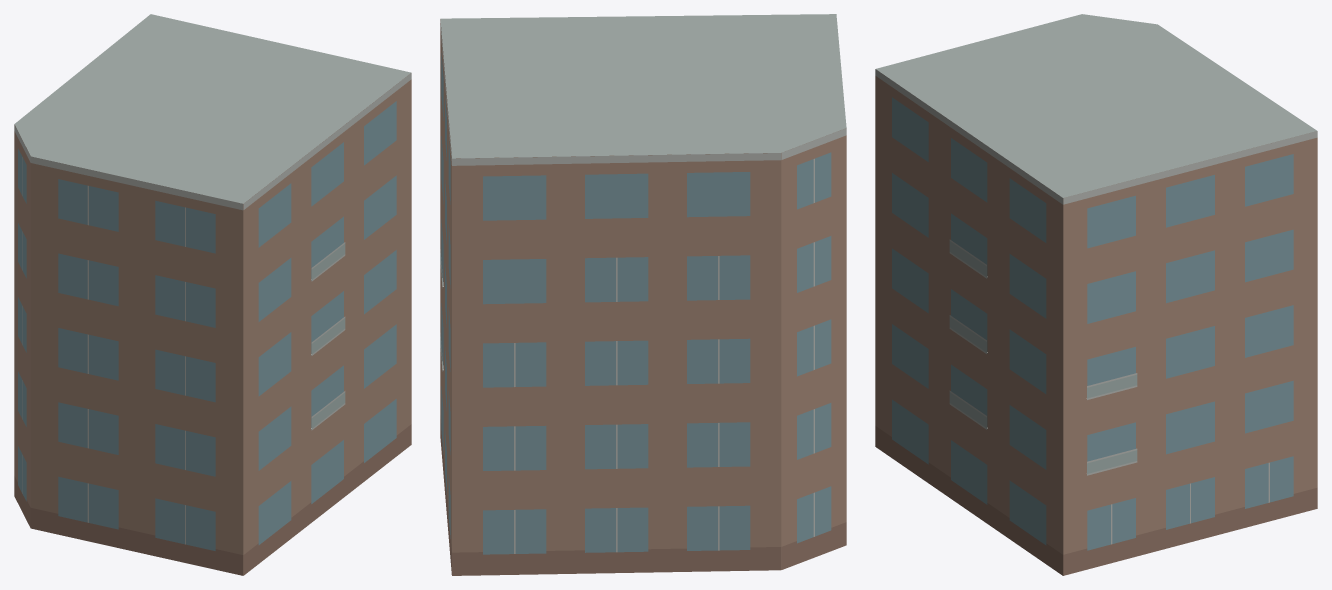
Rendered from survey-upis-32875457.glb.
3 renders of one model, left to right at view 1: azimuth 30°, elevation 25°; view 2: azimuth 150°, elevation 25°; view 3: azimuth 270°, elevation 25°, orthographic. The views are drawn at different scales.
Visible parts, largest first — view 1: survey-upis-32875457.tmp; view 2: survey-upis-32875457.tmp; view 3: survey-upis-32875457.tmp.
Part boxes in pixels (<box>): survey-upis-32875457.tmp: <box>14,14,411,575</box>; survey-upis-32875457.tmp: <box>440,14,846,575</box>; survey-upis-32875457.tmp: <box>875,14,1317,575</box>.
Bounding box in the file's own units: 14.43 × 13.8 × 14.64.
